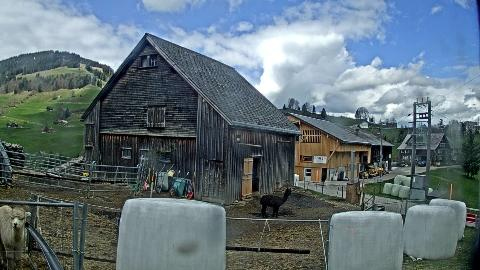car: (418, 162, 426, 166)
sheep: (0, 206, 32, 270), (260, 188, 292, 218)
